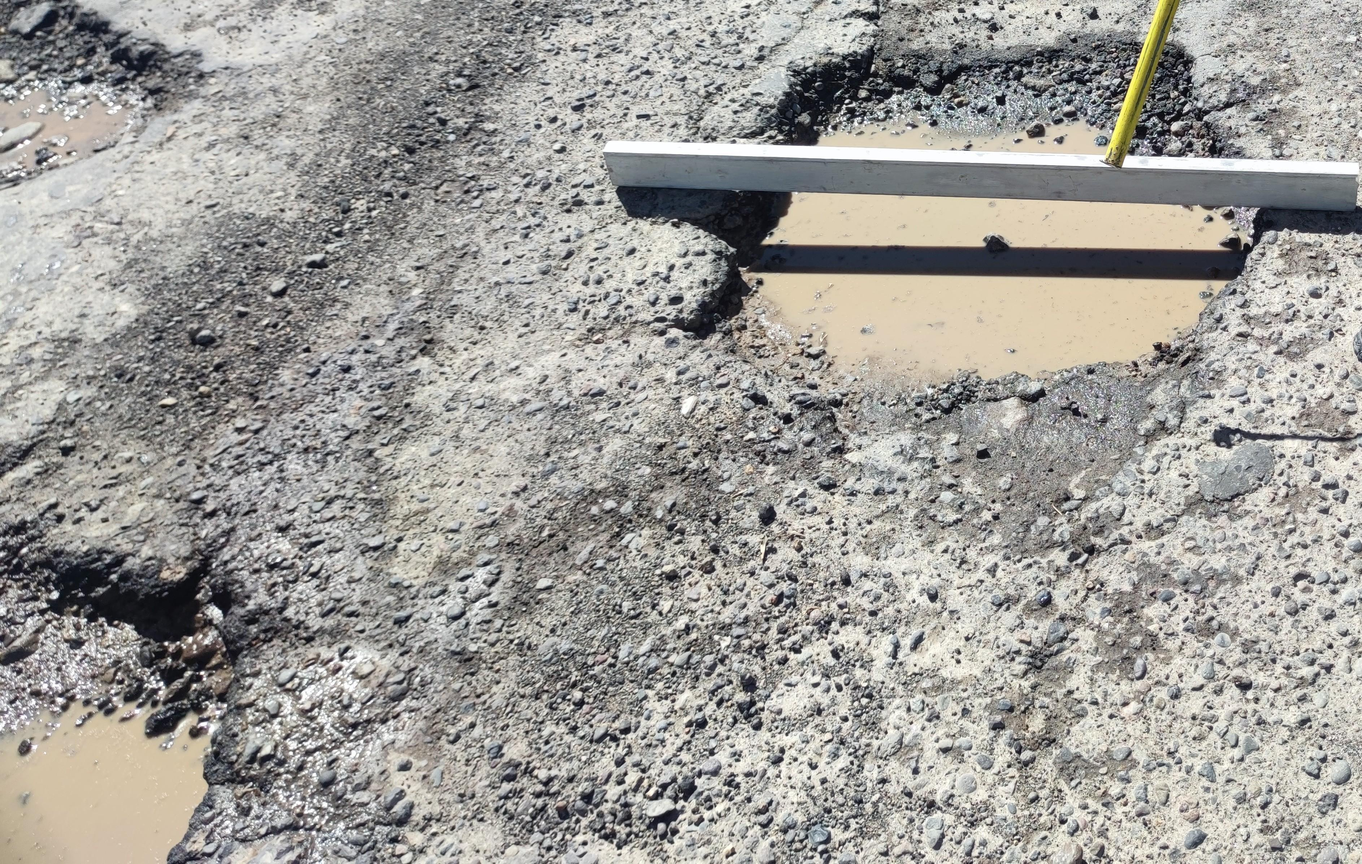BACHE: (692, 189, 1267, 501), (0, 520, 235, 864), (776, 36, 1228, 157), (0, 0, 178, 188)
